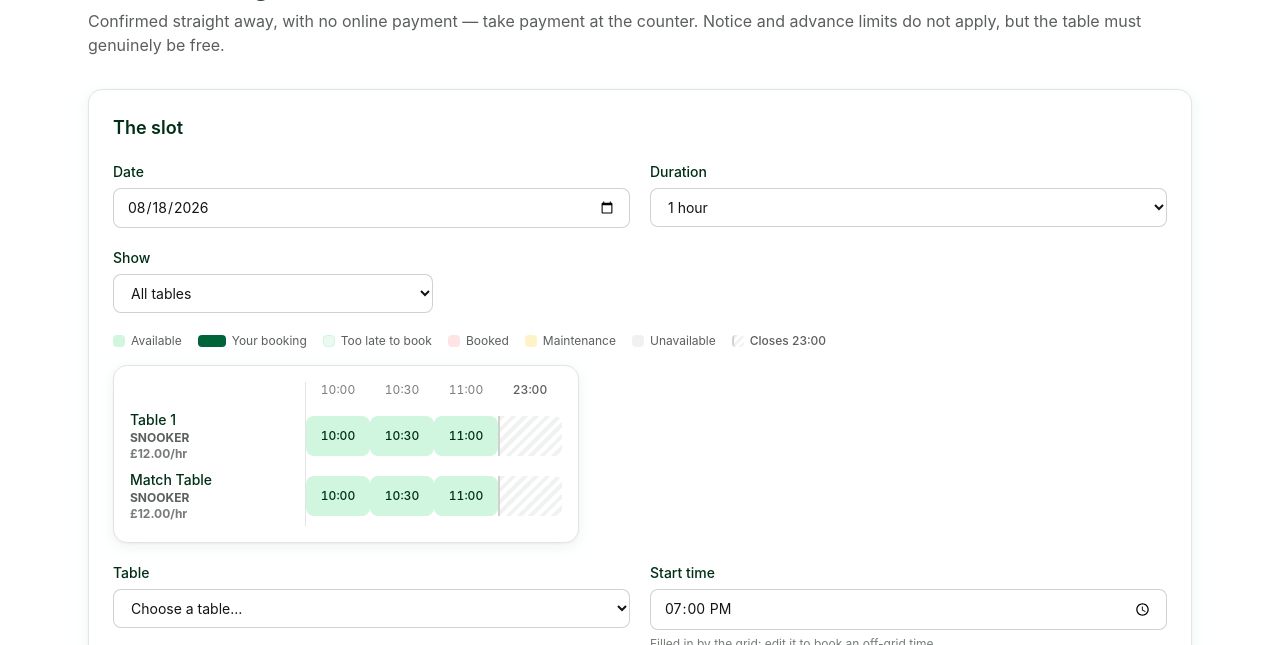
Scenario: AdminTelephoneBookingPage › books the table and time of the cell that was clicked
Step 1. Click the button named "10:30 — available" → (402, 496), box [370,476,434,516]
(page scrolled)
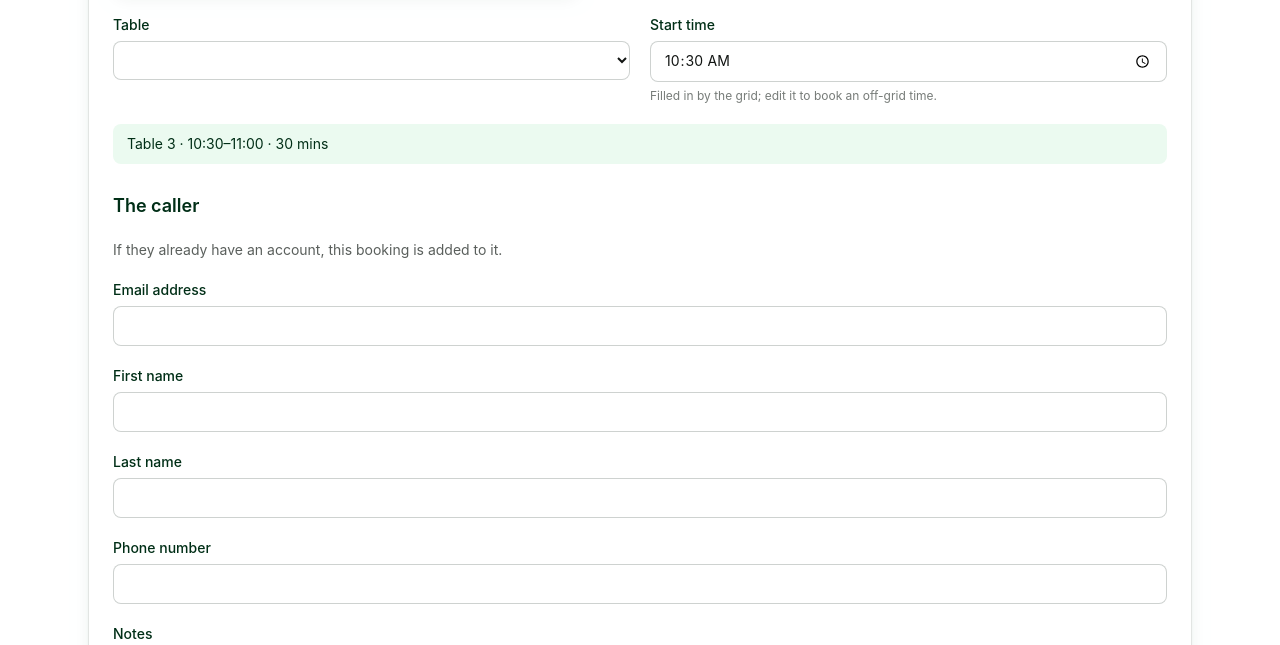
Step 2. Type "caller@example.test" into the field labelled "Email address" → (640, 326), box [113,306,1167,346]
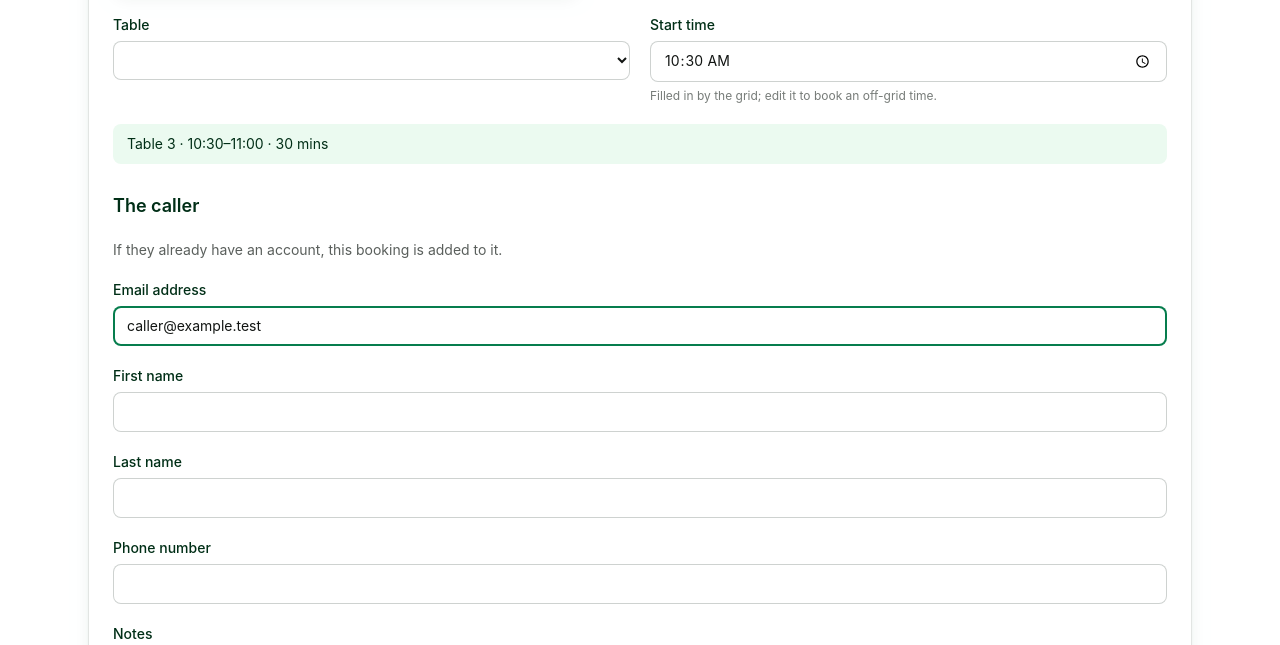
Step 3. Type "Phone" into the field labelled "First name" → (640, 412), box [113,392,1167,432]
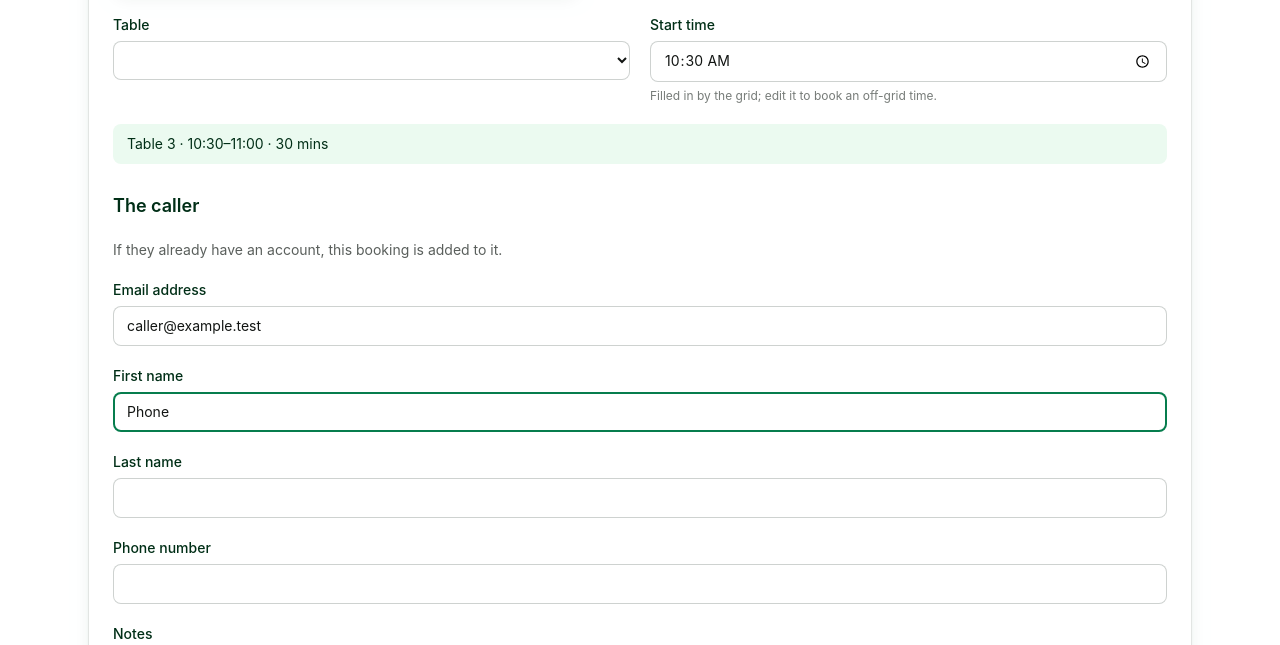
Step 4. Type "Caller" into the field labelled "Last name" → (640, 498), box [113,478,1167,518]
(page scrolled)
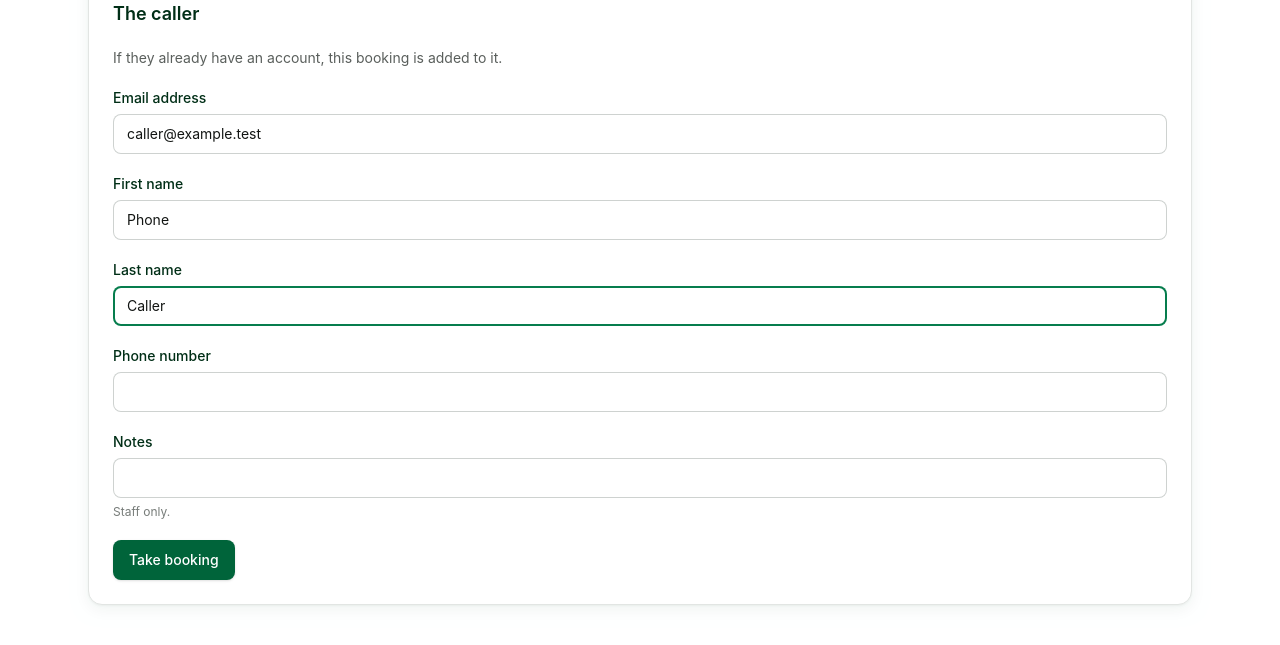
Step 5. Click the button "Take booking" → (174, 560), box [113,540,235,580]
(page scrolled)
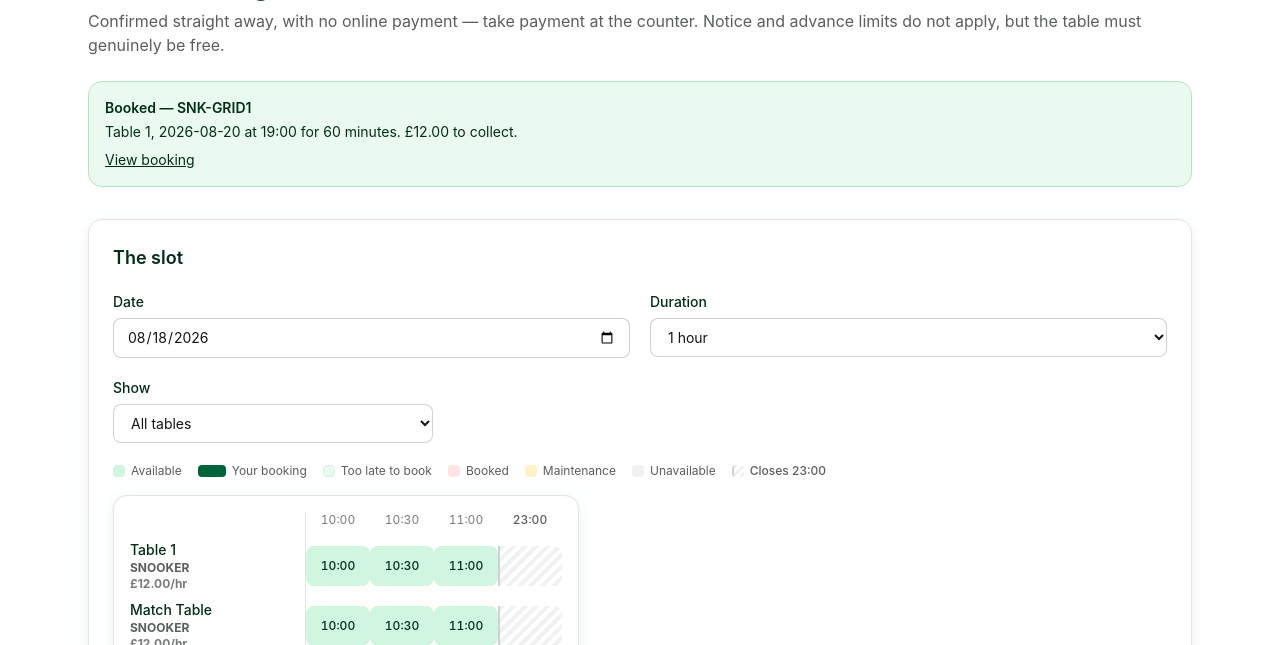
Now the text "Booked — SNK-GRID1" is shown, box [105,99,251,116]
